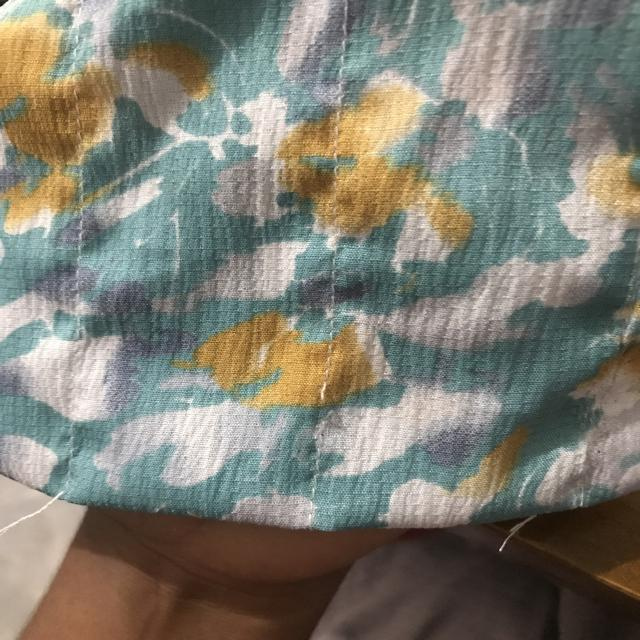broken: (294, 373, 345, 430)
